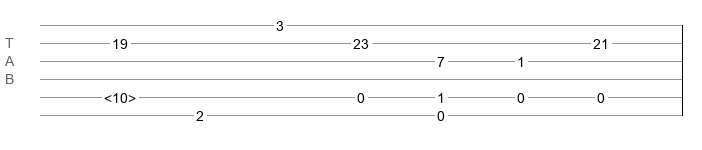0: (357, 90, 365, 100), (437, 108, 445, 118), (517, 90, 525, 100), (597, 90, 605, 100)
1: (437, 90, 445, 100), (517, 54, 525, 64)
19: (112, 36, 128, 46)
2: (196, 108, 204, 118)
21: (593, 36, 609, 46)
23: (353, 36, 369, 46)
3: (276, 18, 284, 28)
7: (437, 54, 445, 64)
harmonic: (104, 90, 136, 100)
